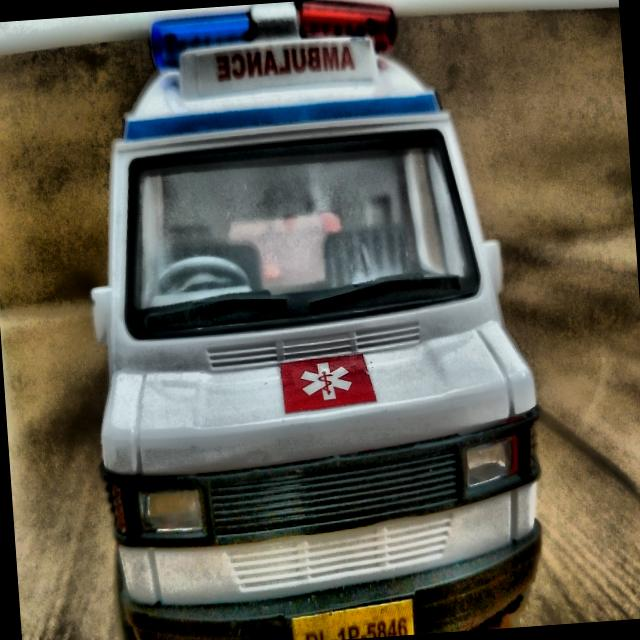Ambulance: (59, 0, 560, 640)
